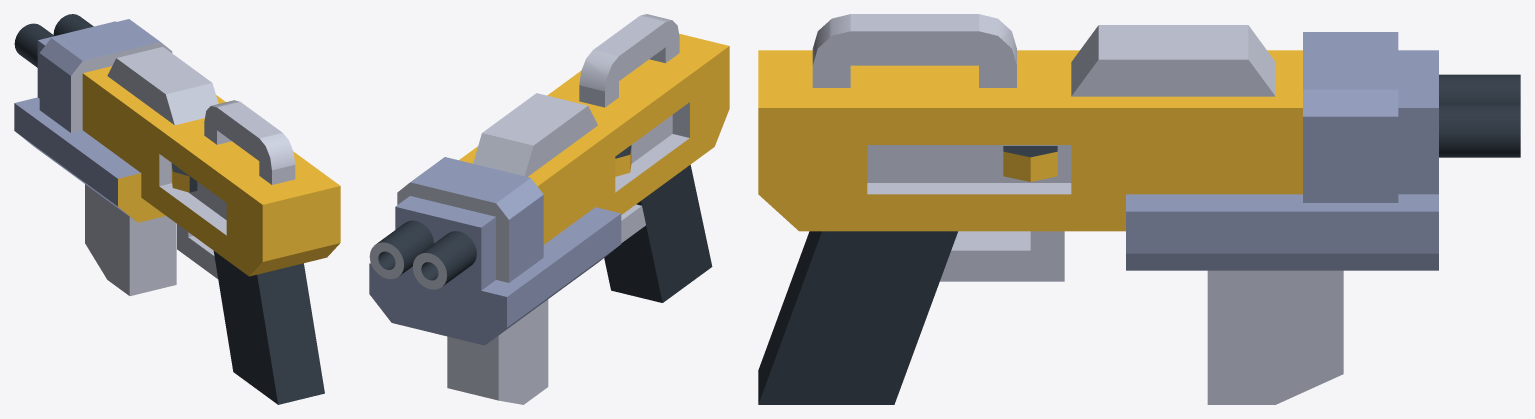
Rendered from blasterJ.fbx.
The picture shows the model from 3 angles, left to right: view 1: azimuth 30°, elevation 25°; view 2: azimuth 150°, elevation 25°; view 3: azimuth 270°, elevation 25°; orthographic projection. The views are drawn at different scales.
Parts seen in each view (by area): view 1: blasterJ; view 2: blasterJ; view 3: blasterJ.
Part boxes in pixels (x1=…): blasterJ: x1=14, y1=14, x2=340, y2=404; blasterJ: x1=369, y1=14, x2=729, y2=404; blasterJ: x1=758, y1=14, x2=1520, y2=404.
Bounding box in the file's own units: 1.6 × 2.96 × 5.6.
